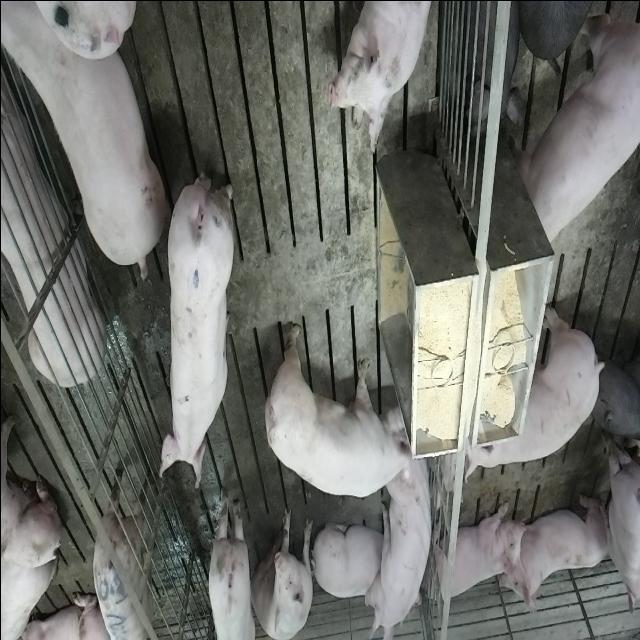Feeding: (266, 312, 418, 496)
Sitting: (365, 456, 435, 640), (251, 506, 314, 640)
Standing: (516, 8, 638, 248), (464, 295, 608, 473), (158, 161, 234, 488), (89, 464, 158, 638), (205, 488, 255, 638), (605, 435, 640, 617), (595, 318, 640, 438)
Sternal_lying: (0, 62, 102, 391), (331, 0, 437, 156), (501, 494, 611, 620), (426, 500, 522, 610), (314, 516, 386, 604)
